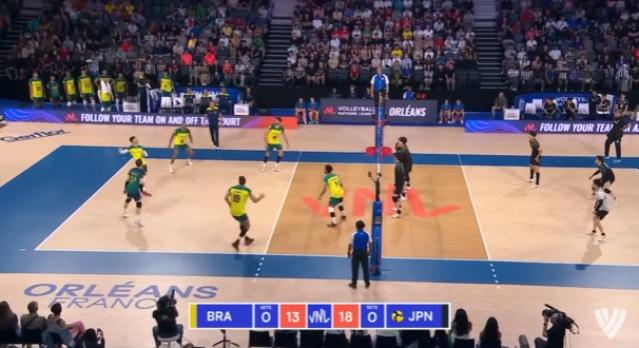Levantador: (311, 159, 357, 231)
Libero: (584, 174, 622, 250), (119, 154, 152, 234)
bola: (161, 78, 177, 96)
